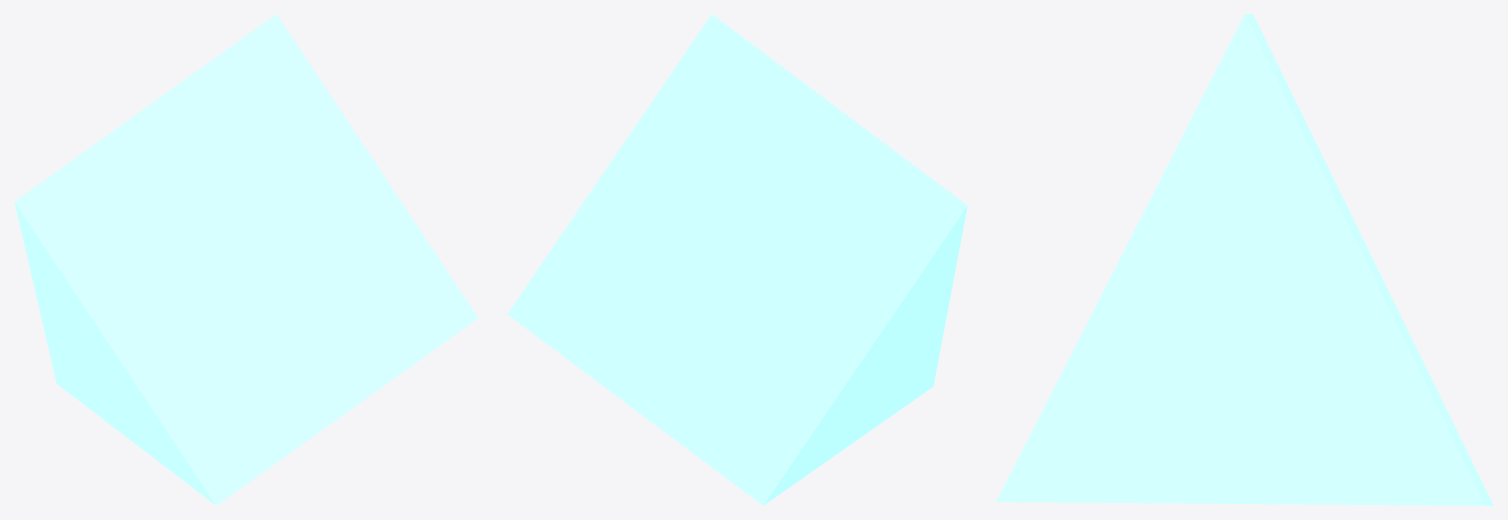
File: item_ammo_shotgun.glb
3 renders of one model, left to right at view 1: azimuth 30°, elevation 25°; view 2: azimuth 150°, elevation 25°; view 3: azimuth 270°, elevation 25°, orthographic. The views are drawn at different scales.
Visible parts, largest first — view 1: MeshInstance3D; view 2: MeshInstance3D; view 3: MeshInstance3D.
Boxes of the visible parts, bbox=[...] form: MeshInstance3D: bbox=[14, 14, 478, 505]; MeshInstance3D: bbox=[507, 14, 967, 505]; MeshInstance3D: bbox=[996, 14, 1493, 505].
Bounding box in the file's own units: 0.6686 × 0.6645 × 0.5081.
